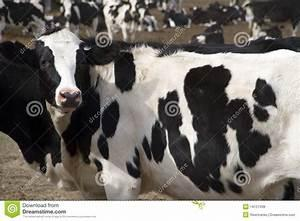cow: (27, 24, 300, 199)
